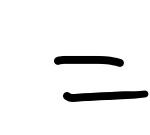eqv: (54, 56, 150, 102)
